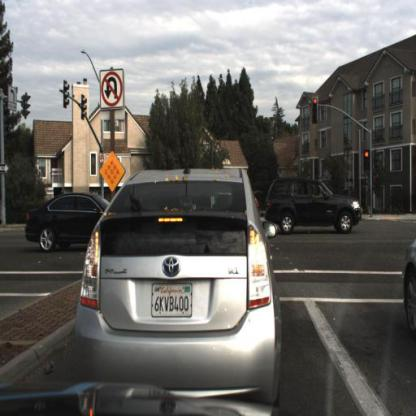car: (69, 161, 285, 392), (16, 168, 121, 264), (267, 176, 362, 236), (398, 222, 416, 347)
trafficLight-Red: (361, 145, 373, 176), (310, 92, 320, 127)
